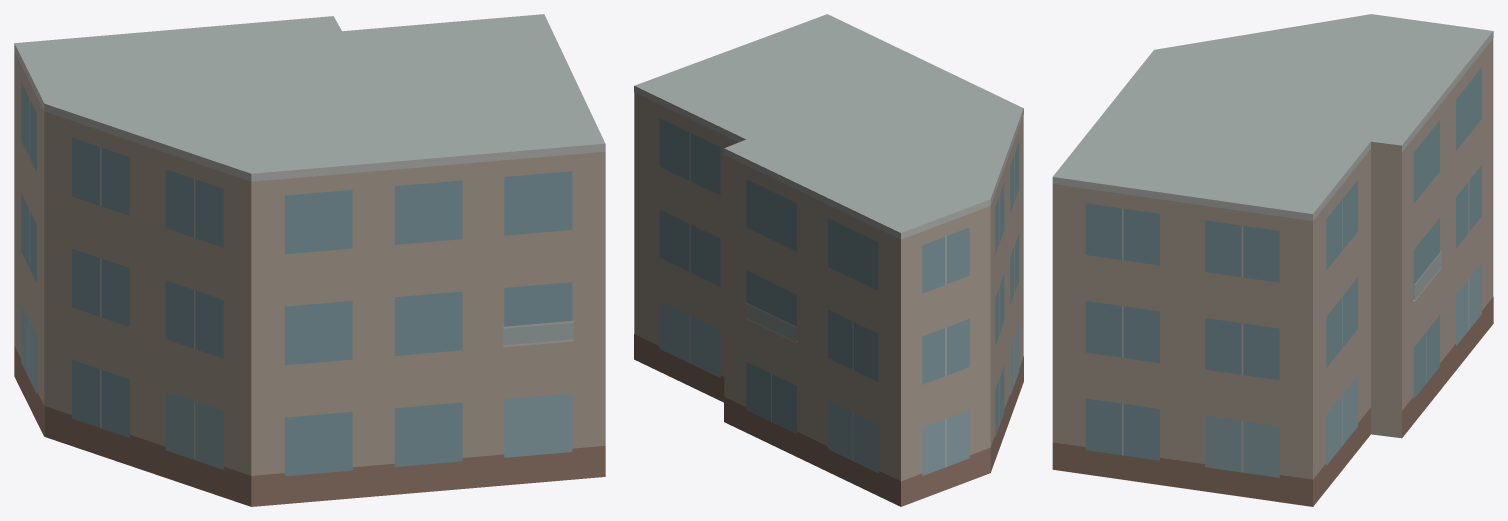
File: survey-upis-32690338.glb
3 renders of one model, left to right at view 1: azimuth 30°, elevation 25°; view 2: azimuth 150°, elevation 25°; view 3: azimuth 270°, elevation 25°, orthographic. The views are drawn at different scales.
Visible parts, largest first — view 1: survey-upis-32690338.tmp; view 2: survey-upis-32690338.tmp; view 3: survey-upis-32690338.tmp.
Part boxes in pixels (<box>): survey-upis-32690338.tmp: <box>14,14,605,506</box>; survey-upis-32690338.tmp: <box>634,14,1023,506</box>; survey-upis-32690338.tmp: <box>1052,14,1493,506</box>.
Bounding box in the file's own units: 14.97 × 10.2 × 13.93.
